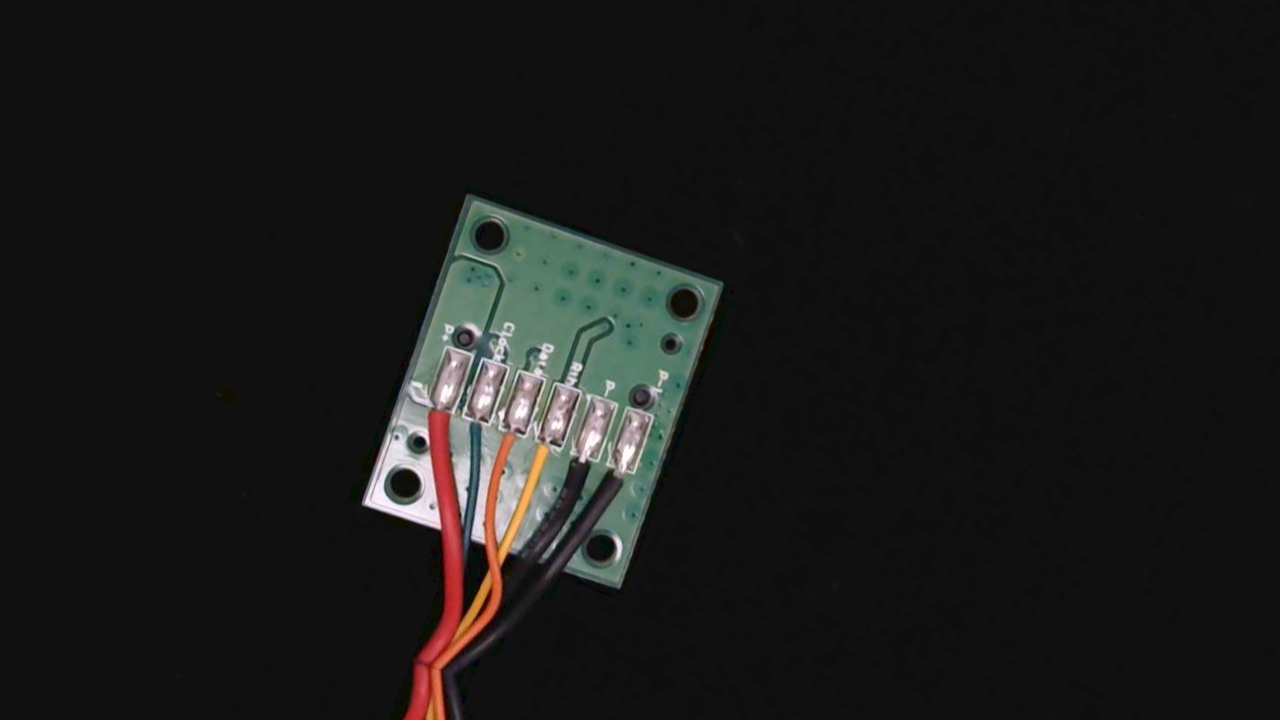Black: (548, 436, 605, 516)
Black1: (590, 448, 644, 522)
Green: (448, 396, 496, 462)
Orange: (481, 408, 534, 482)
Red: (407, 386, 463, 463)
Yellow: (511, 423, 569, 505)
